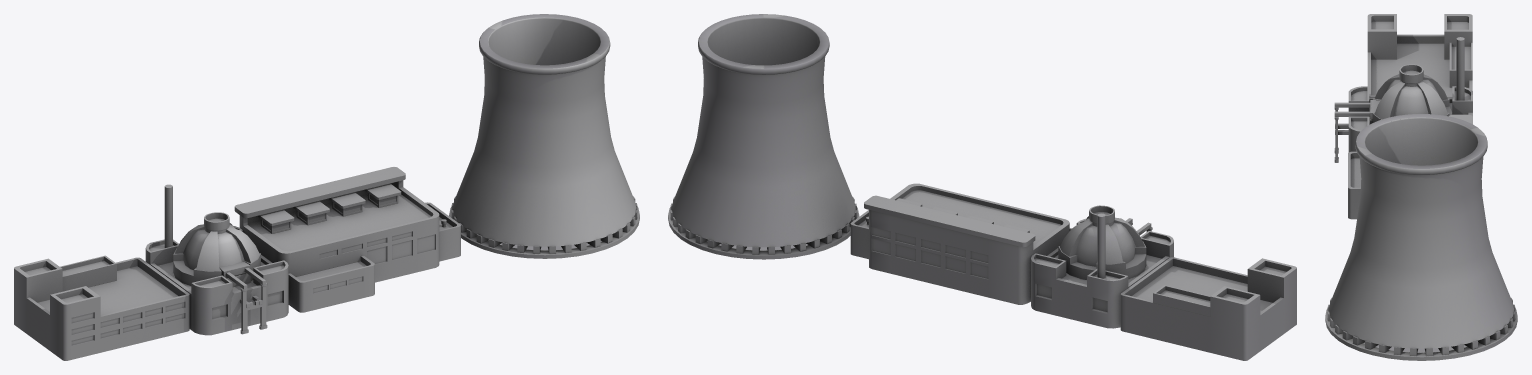
The model's file is zavod.fbx.
3 renders of one model, left to right at view 1: azimuth 30°, elevation 25°; view 2: azimuth 150°, elevation 25°; view 3: azimuth 270°, elevation 25°, orthographic.
Parts seen in each view (by area): view 1: Truba, Zdanie_Cheh, Zdanie_office, Zdanie_Centr; view 2: Truba, Zdanie_Cheh, Zdanie_office, Zdanie_Centr; view 3: Truba, Zdanie_office, Zdanie_Centr, Zdanie_Cheh.
Boxes of the visible parts, x1,y1,x2,y2 form: Truba: (449,14,639,258); Zdanie_Cheh: (234,167,460,312); Zdanie_office: (14,255,189,360); Zdanie_Centr: (145,184,288,335); Truba: (668,14,859,259); Zdanie_Cheh: (850,183,1071,304); Zdanie_office: (1120,257,1296,360); Zdanie_Centr: (1031,205,1173,328); Truba: (1325,114,1517,360); Zdanie_office: (1367,14,1472,97); Zdanie_Centr: (1334,37,1472,162); Zdanie_Cheh: (1348,114,1472,219).
Bounding box in the file's own units: 9709 × 2793 × 2723.
